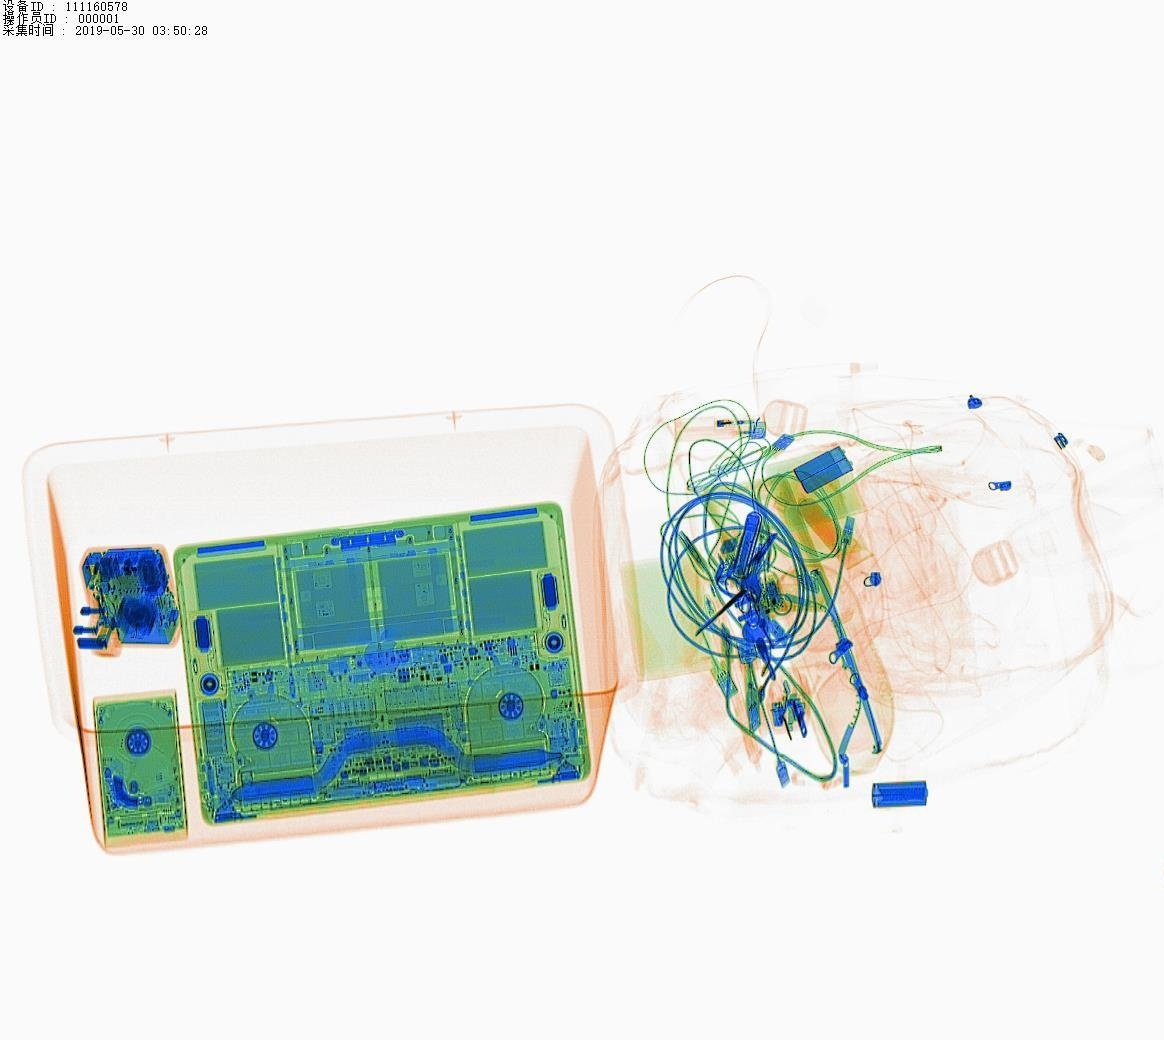NonmetallicFire: (650, 399, 793, 457)
